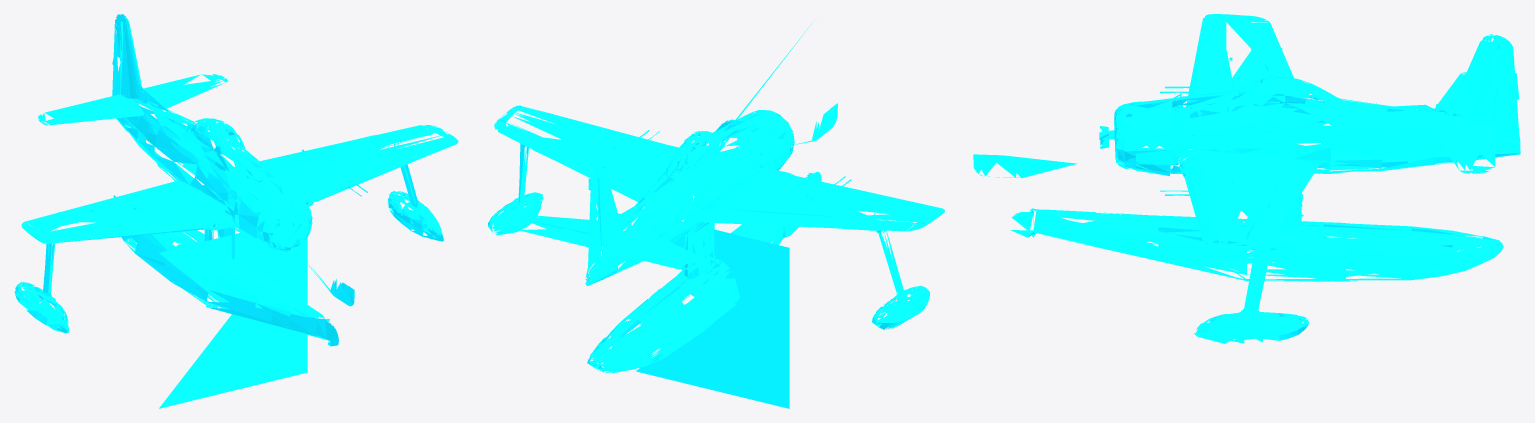
File: PAAF311.glb
The picture shows the model from 3 angles, left to right: view 1: azimuth 30°, elevation 25°; view 2: azimuth 150°, elevation 25°; view 3: azimuth 270°, elevation 25°; orthographic projection. The views are drawn at different scales.
Parts seen in each view (by area): view 1: misc; view 2: misc; view 3: misc.
Part boxes in pixels (x1,y1,x2,y2): misc: (14,14,458,408); misc: (488,22,944,408); misc: (973,14,1520,343).
Size of the model in its own units: 0.7213 by 0.4884 by 0.7262.
